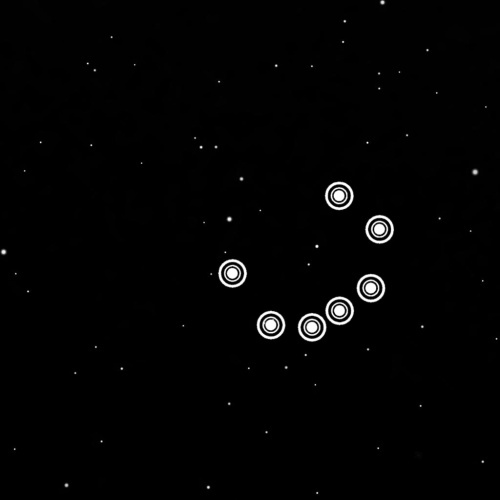corona_borealis: (215, 172, 399, 344)
